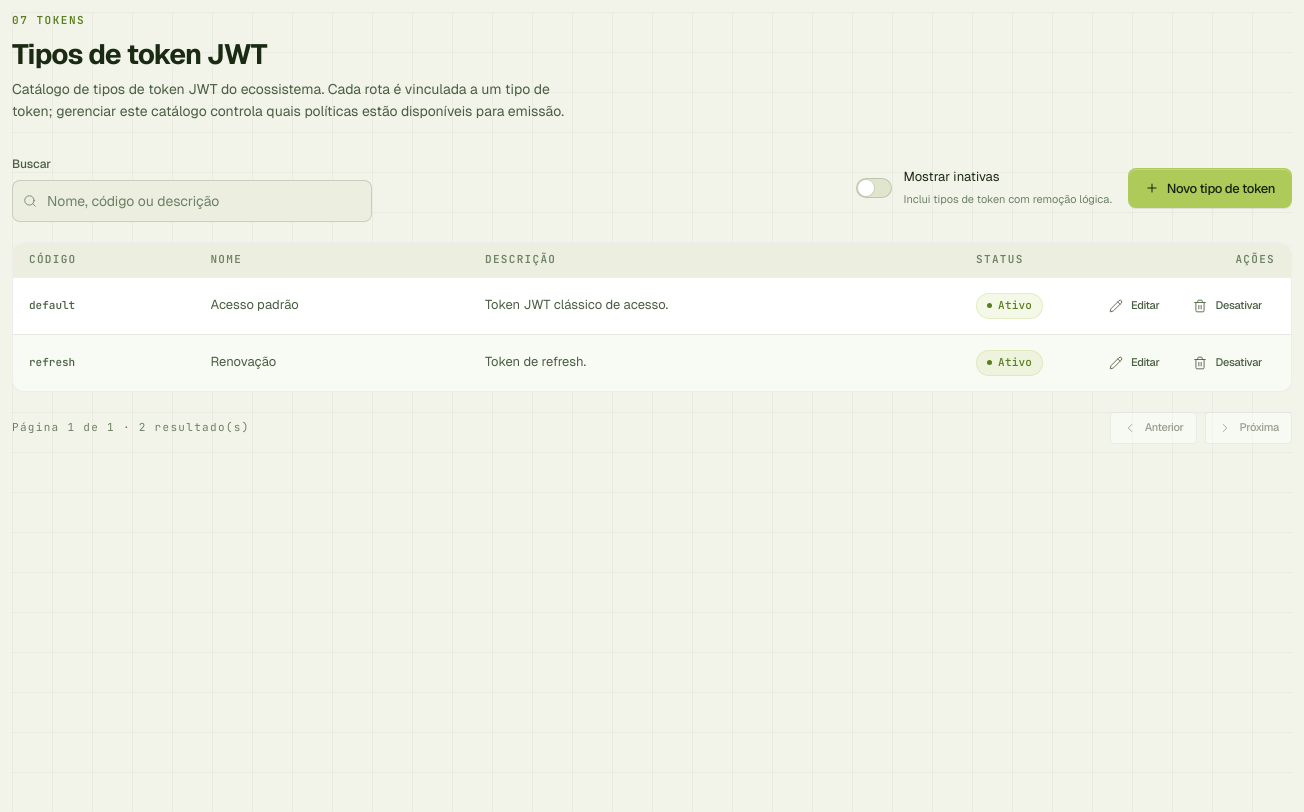
Scenario: TokensListShellPage — render inicial › renderiza badge "Inativo" para tipos soft-deletados quando includeDeleted=true
Click the switch with test id "token-types-include-deleted": coordinates (984, 188) [856,166,1112,210]
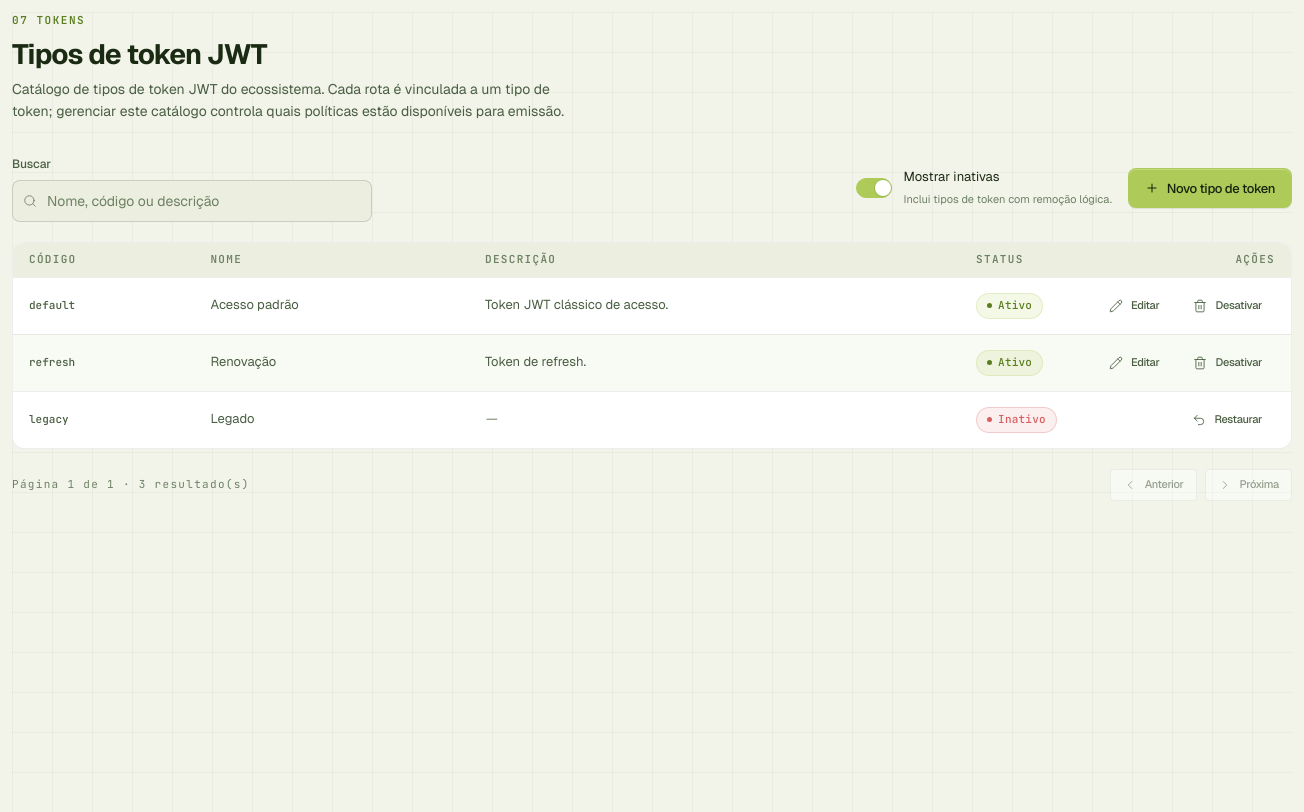
Result: the text "Inativo" is shown at [976,407,1057,432]
Result: the text "Legado" is shown at [194,391,469,448]
